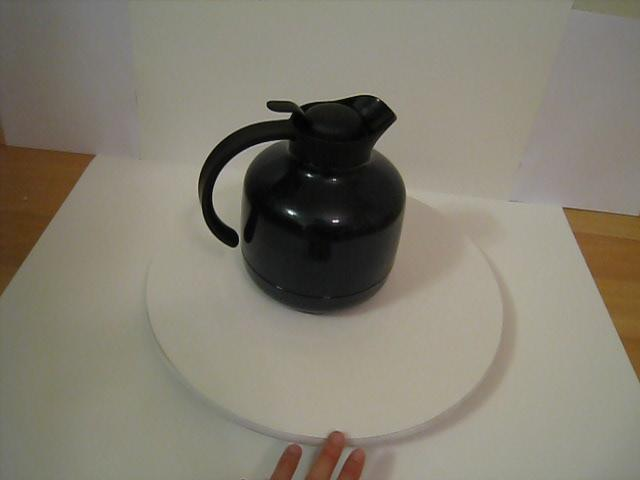pitcher: (199, 94, 412, 321)
